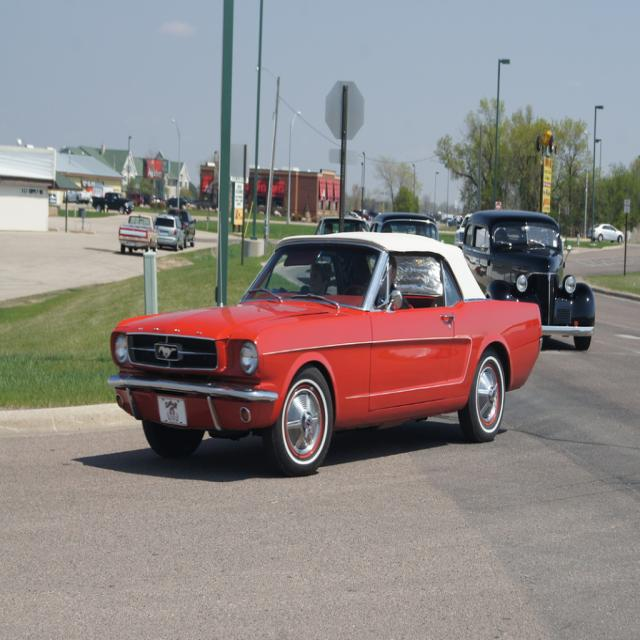car: (99, 223, 544, 476), (120, 209, 162, 251), (90, 190, 131, 212), (65, 189, 94, 199)
